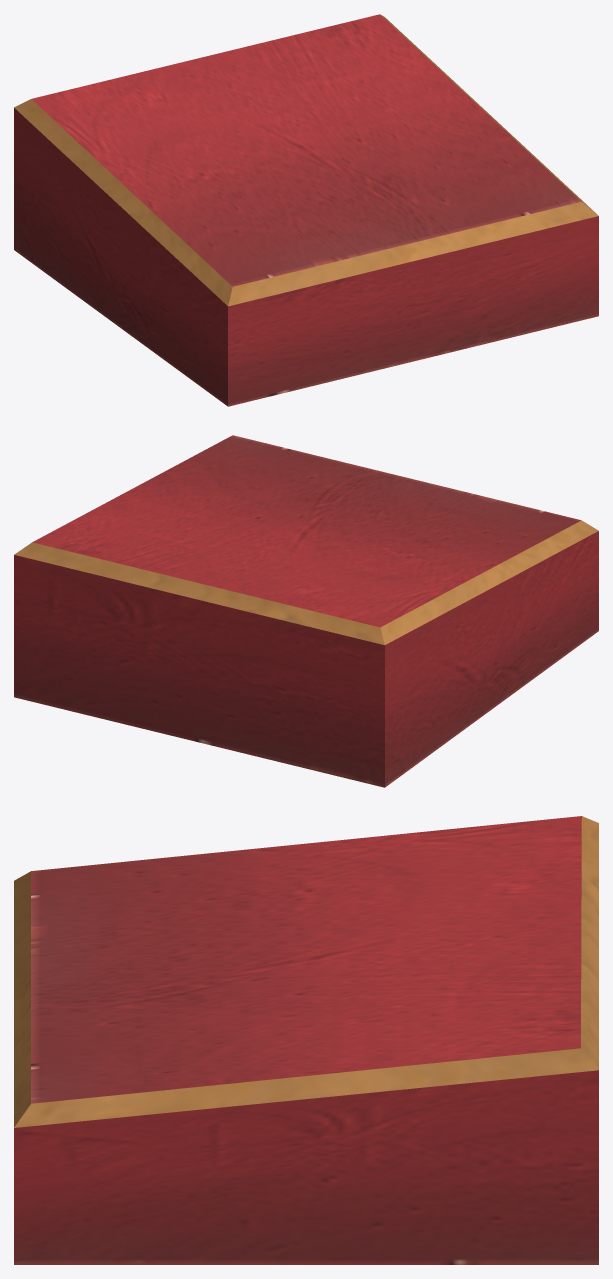
File: Cushion_Art.fbx
3 views of the same model, one above another, from view 1: azimuth 30°, elevation 25°; view 2: azimuth 150°, elevation 25°; view 3: azimuth 270°, elevation 25° (orthographic). The views are drawn at different scales.
Parts seen in each view (by area): view 1: Cushion_Art; view 2: Cushion_Art; view 3: Cushion_Art.
Part boxes in pixels (bbox=[...]): Cushion_Art: bbox=[14, 14, 598, 406]; Cushion_Art: bbox=[14, 435, 598, 787]; Cushion_Art: bbox=[14, 816, 598, 1264].
Size of the model in its own units: 0.3756 by 0.1481 by 0.3756.
